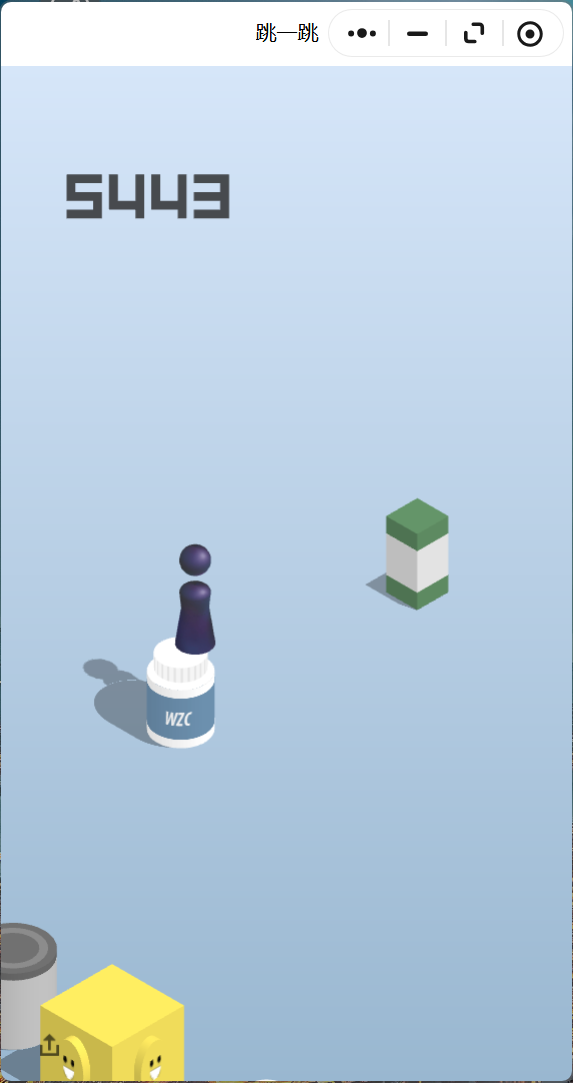piece: (180, 545, 209, 651)
target: (387, 497, 448, 536)
